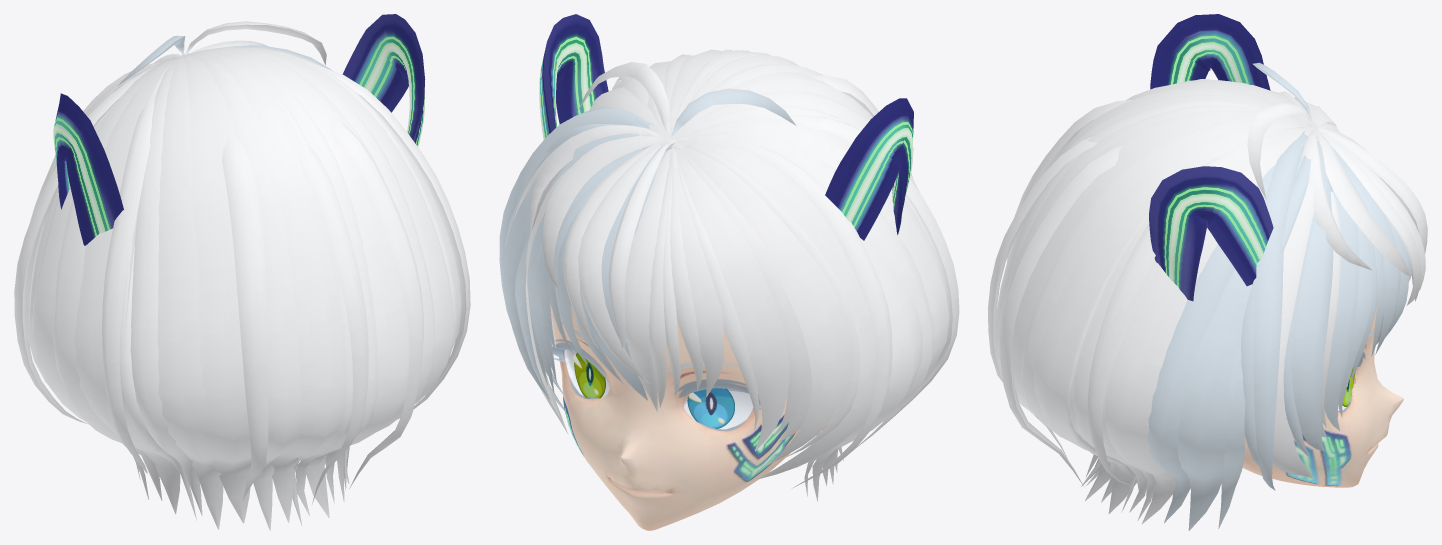
The model's file is avatarsample_f.glb.
3 renders of one model, left to right at view 1: azimuth 30°, elevation 25°; view 2: azimuth 150°, elevation 25°; view 3: azimuth 270°, elevation 25°, orthographic. The views are drawn at different scales.
Visible parts, largest first — view 1: Hair_Hair001; view 2: Hair_Hair001, Facebaked; view 3: Hair_Hair001, Facebaked.
Boxes of the visible parts, x1,y1,x2,y2 form: Hair_Hair001: (14,14,470,530); Hair_Hair001: (499,14,959,501); Facebaked: (550,302,827,530); Hair_Hair001: (988,14,1427,530); Facebaked: (1242,255,1403,487).
Bounding box in the file's own units: 0.2745 × 0.2833 × 0.281.
Materials: 13 (13 with a texture image).
